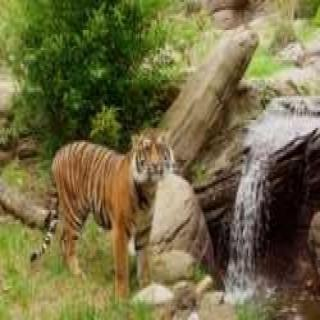Tiger: (30, 126, 175, 298)
